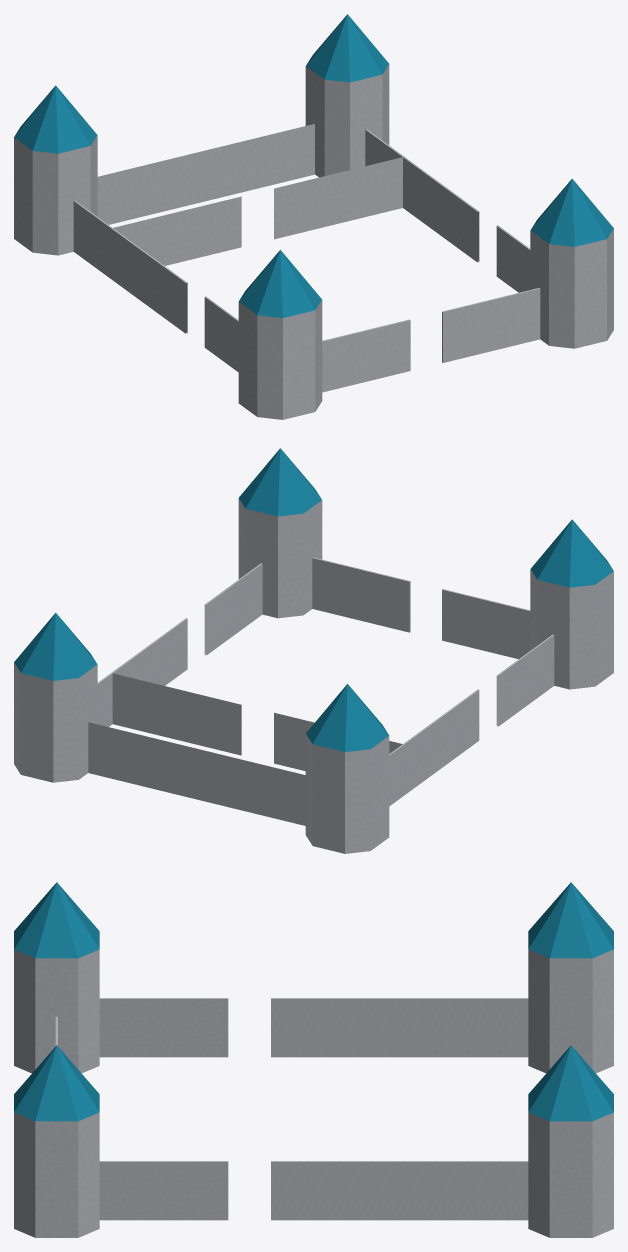
File: castle_s486-511.glb
The picture shows the model from 3 angles, top to bottom: view 1: azimuth 30°, elevation 25°; view 2: azimuth 150°, elevation 25°; view 3: azimuth 270°, elevation 25°; orthographic projection. The views are drawn at different scales.
Visible parts, largest first — view 1: castle_s486-511; view 2: castle_s486-511; view 3: castle_s486-511.
Part boxes in pixels (x1,y1,x2,y2): castle_s486-511: [14, 14, 613, 419]; castle_s486-511: [14, 448, 613, 853]; castle_s486-511: [14, 882, 613, 1237].
Size of what is drawn, in the model's own units: 22 by 9 by 28.
Materials: 2 (1 with a texture image).
